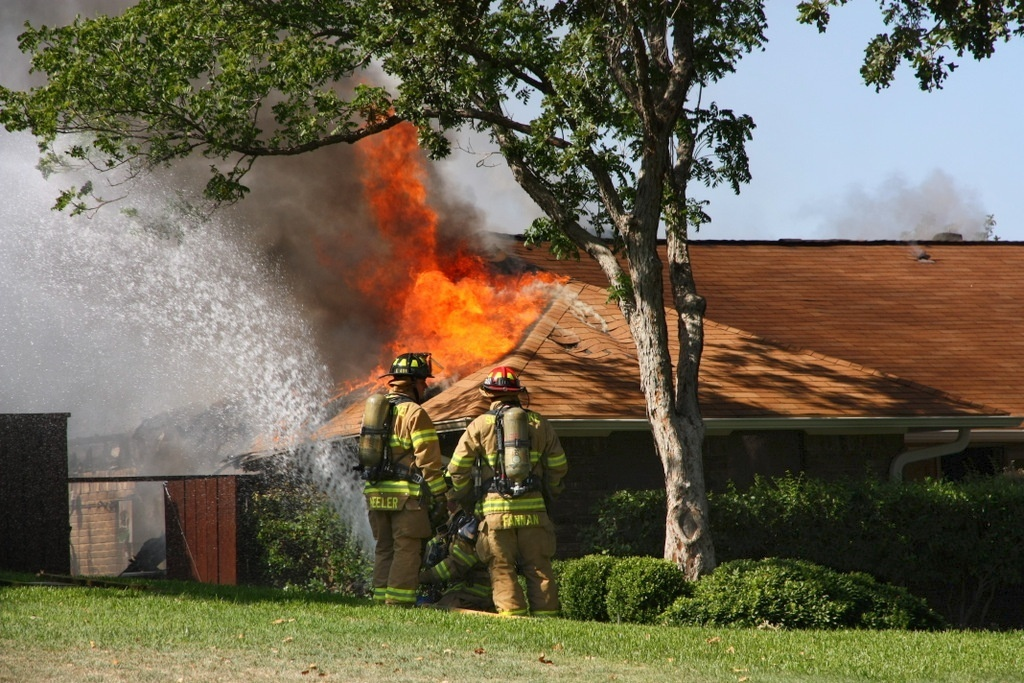fire: (349, 125, 557, 387)
